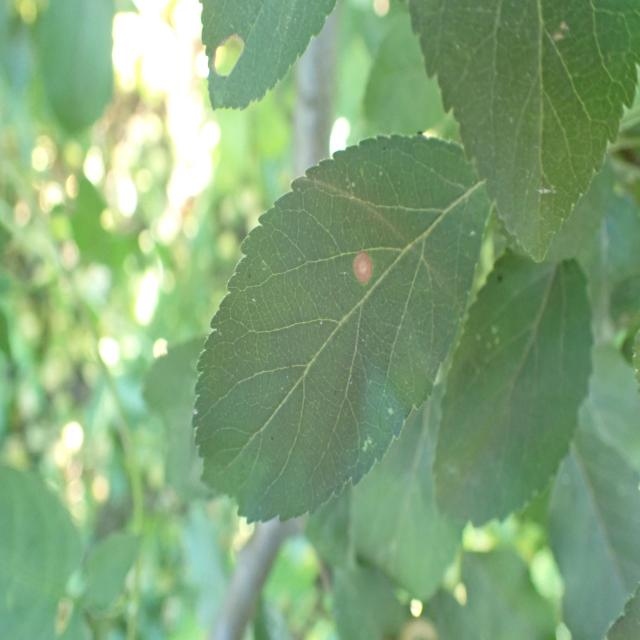frog-eye-leaf-spot: (190, 131, 493, 526), (199, 0, 339, 112)
